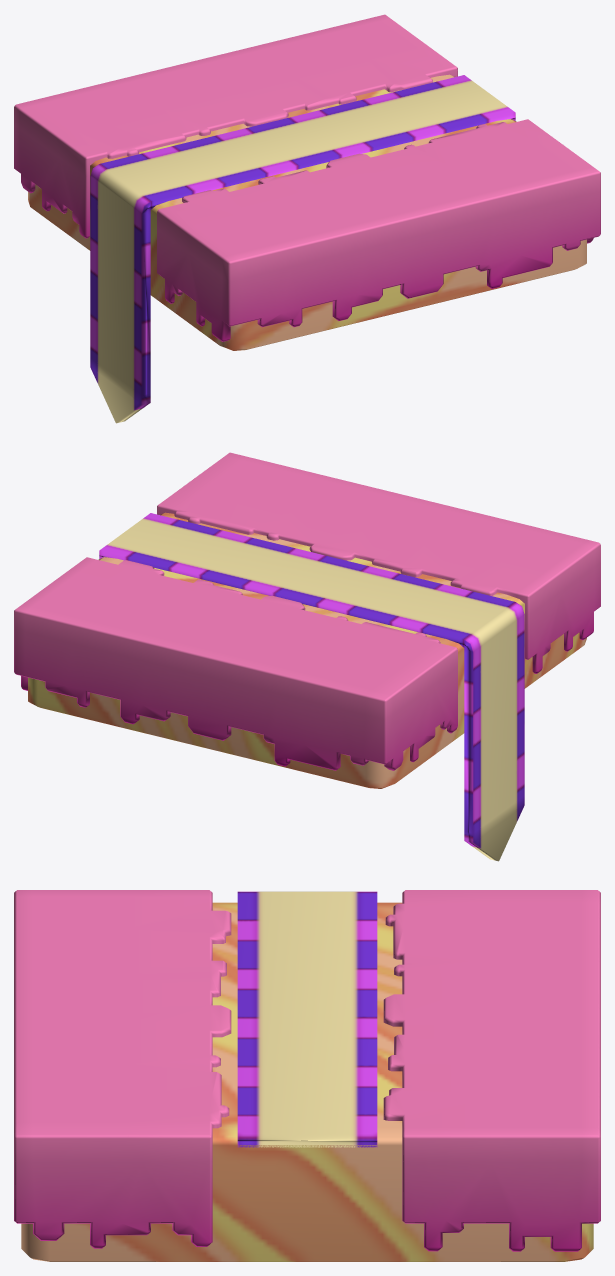
File: ScaffoldS_L.fbx
3 views of the same model, one above another, from view 1: azimuth 30°, elevation 25°; view 2: azimuth 150°, elevation 25°; view 3: azimuth 270°, elevation 25° (orthographic). The views are drawn at different scales.
Visible parts, largest first — view 1: asibaS_L1; view 2: asibaS_L1; view 3: asibaS_L1.
Part boxes in pixels (x1,y1,x2,y2): asibaS_L1: [14, 14, 600, 423]; asibaS_L1: [14, 452, 600, 861]; asibaS_L1: [14, 890, 600, 1261].
Bounding box in the file's own units: 1.04 × 1.03 × 0.6257.
Materials: 1 (1 with a texture image).
